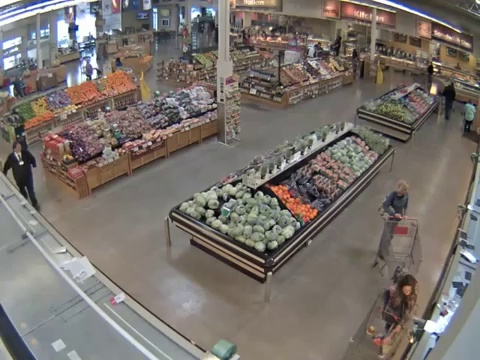face: (401, 283, 412, 298), (12, 142, 23, 153)
